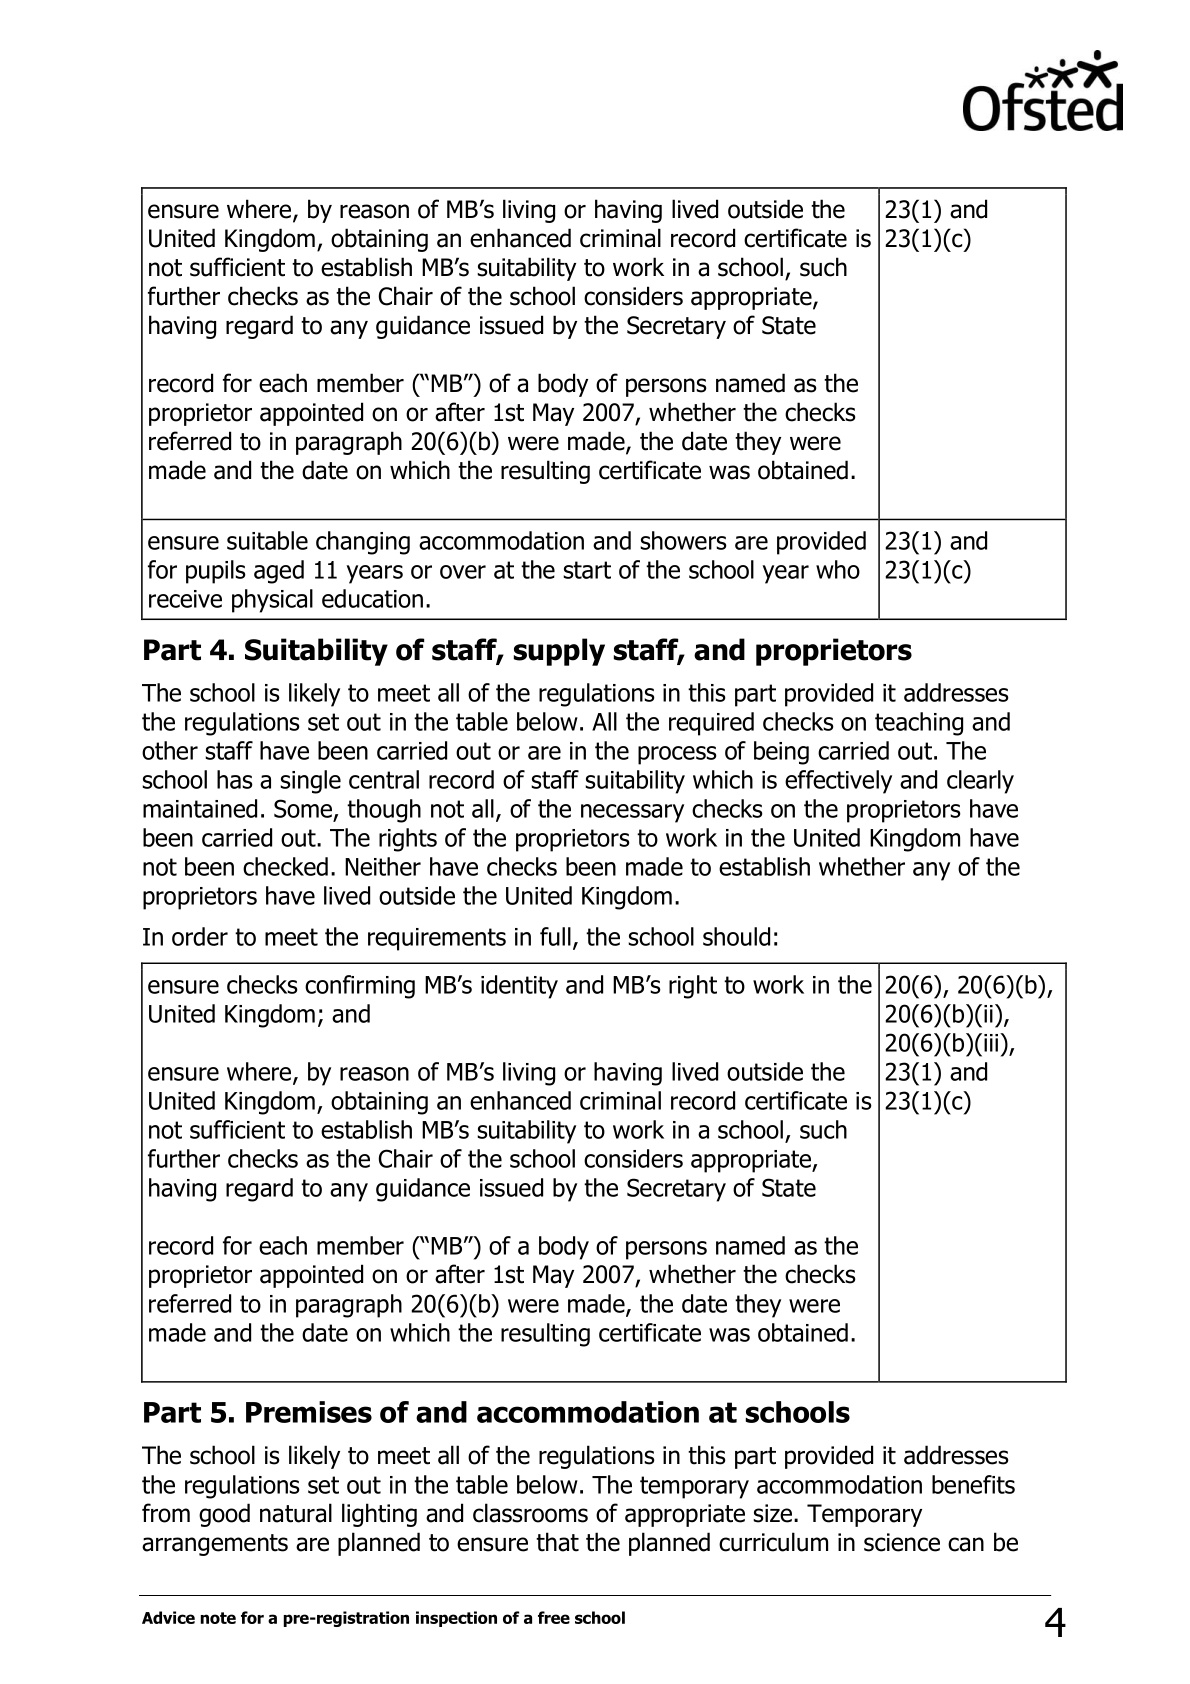full_lined: (140, 185, 1066, 621), (140, 962, 1066, 1384)
